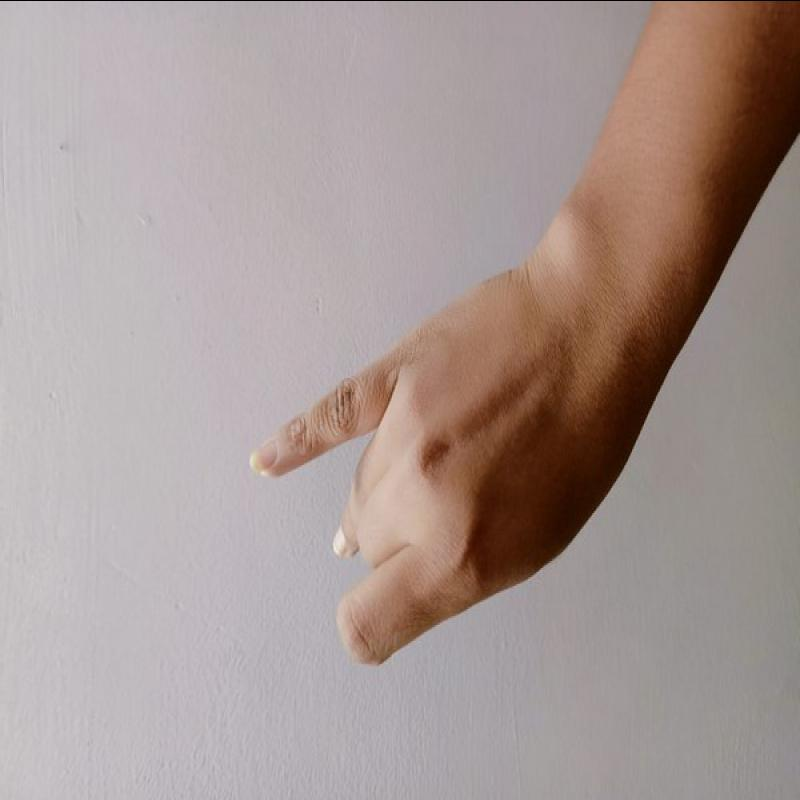Katakam: (236, 270, 623, 682)
